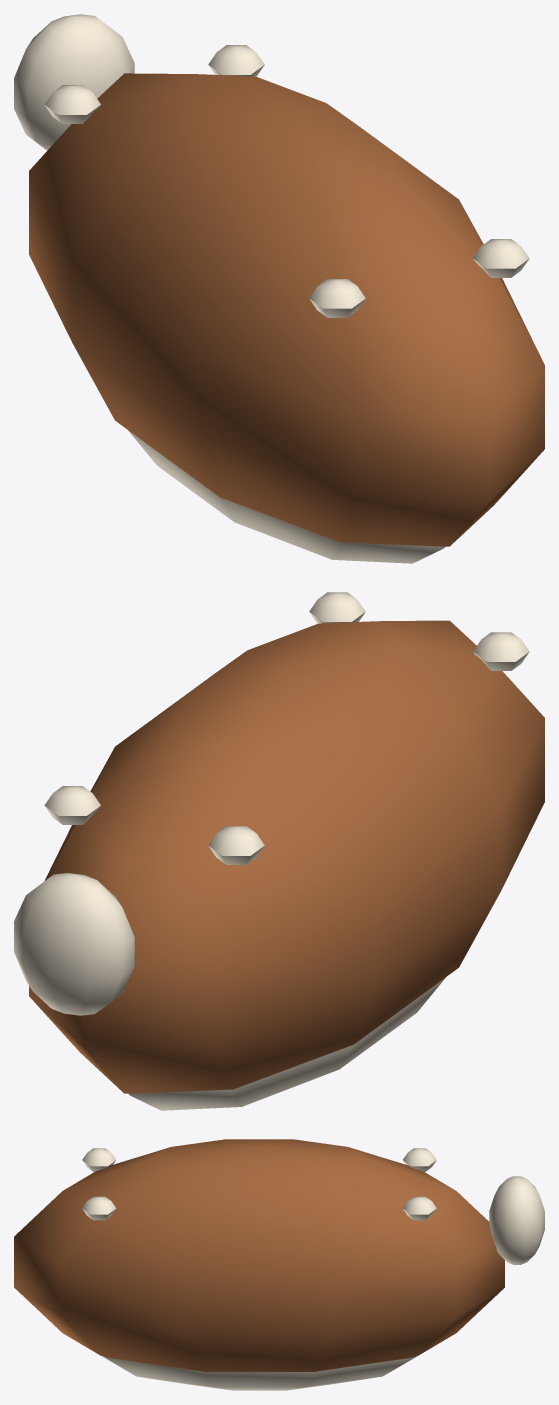
The model's file is Deer_Body.fbx.
3 renders of one model, top to bottom at view 1: azimuth 30°, elevation 25°; view 2: azimuth 150°, elevation 25°; view 3: azimuth 270°, elevation 25°, orthographic. The views are drawn at different scales.
Parts seen in each view (by area): view 1: Deer_Body_EXP; view 2: Deer_Body_EXP; view 3: Deer_Body_EXP.
Part boxes in pixels (x1,y1,x2,y2): Deer_Body_EXP: (14, 14, 544, 563); Deer_Body_EXP: (14, 592, 544, 1110); Deer_Body_EXP: (14, 1139, 544, 1390).
Size of the model in its own units: 0.3709 by 0.45 by 0.9277.
